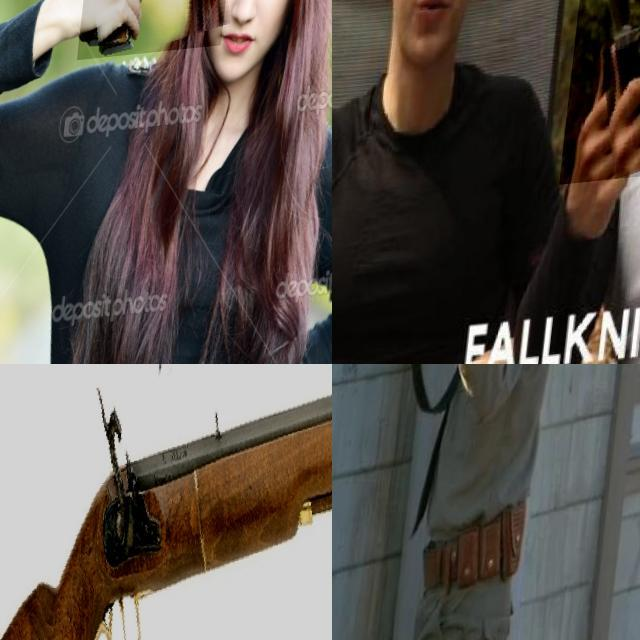-: (569, 0, 640, 190)
gun-knife-thesis - v11 Yolov5 augmented: (0, 364, 332, 640), (349, 364, 521, 473), (82, 0, 241, 90)
